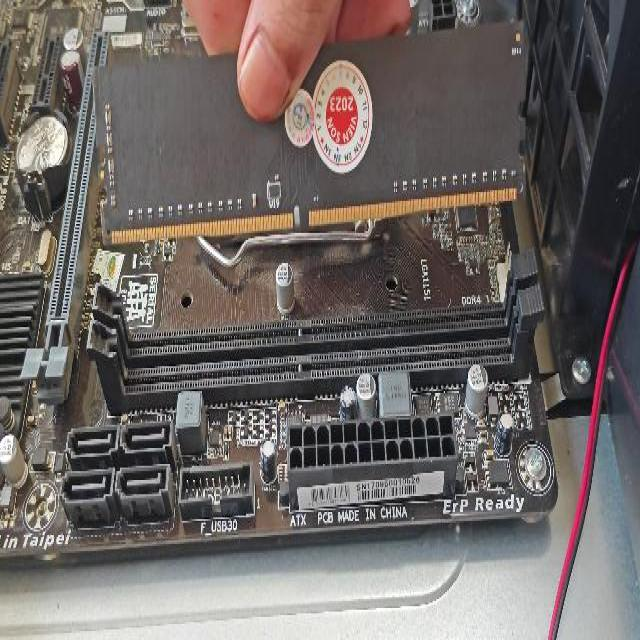Mainboard: (0, 1, 560, 555)
RAM: (92, 19, 530, 246)
